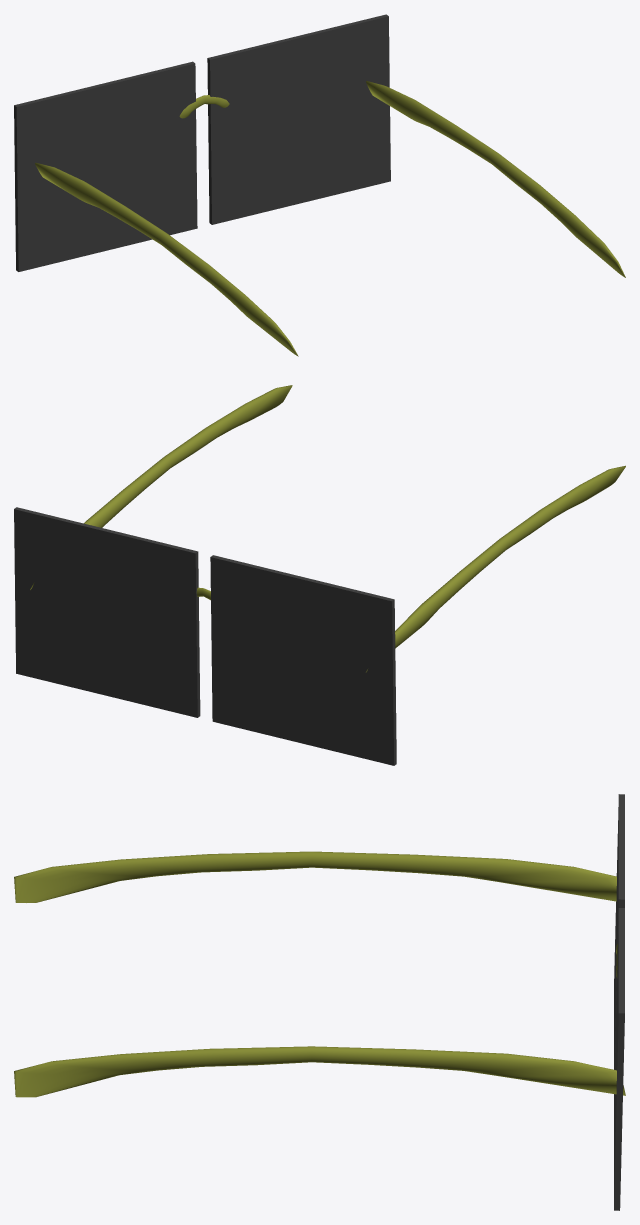
Rendered from new sunglasses.fbx.
3 renders of one model, top to bottom at view 1: azimuth 30°, elevation 25°; view 2: azimuth 150°, elevation 25°; view 3: azimuth 270°, elevation 25°, orthographic. The views are drawn at different scales.
Parts seen in each view (by area): view 1: pTorus4; view 2: pTorus4; view 3: pTorus4.
Boxes of the visible parts, bbox=[...] form: pTorus4: bbox=[14, 14, 625, 356]; pTorus4: bbox=[14, 385, 625, 765]; pTorus4: bbox=[14, 794, 625, 1210].
Size of the model in its own units: 2.91 by 1.22 by 3.44.
